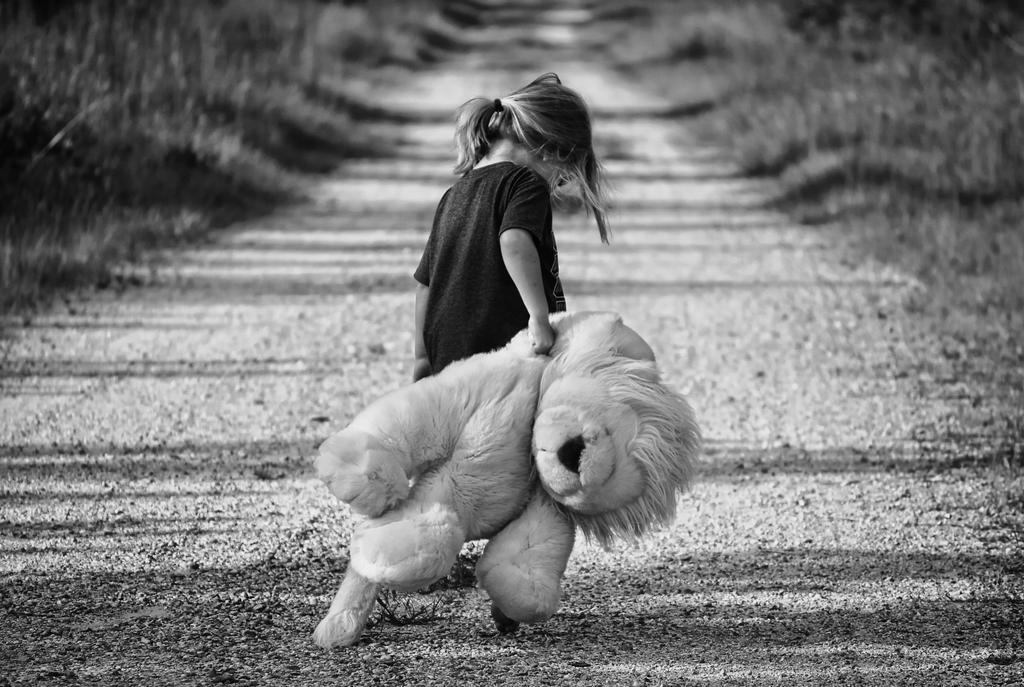child: (403, 65, 598, 565)
